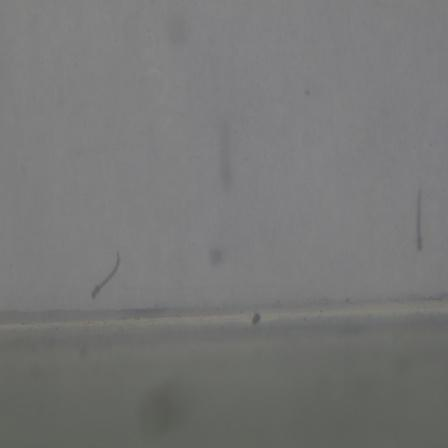Jentik-Nyamuk: (89, 246, 126, 303)
